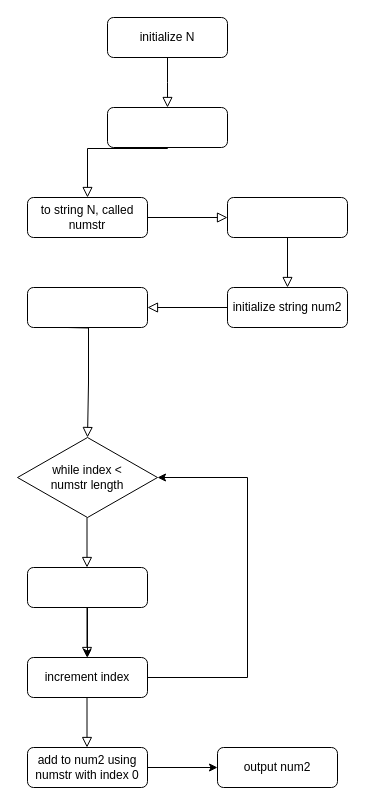
Some shapes in this 365 by 805 pixel diagram are drawn without their labels. Here are the shapes that lost their labels. From the top down, the centre of each, then its label:
At [167,127]: "input N".
At [287,217]: "size of the string".
At [87,307]: "initialize index".
At [87,587]: "add to num2 using numstr and index".
